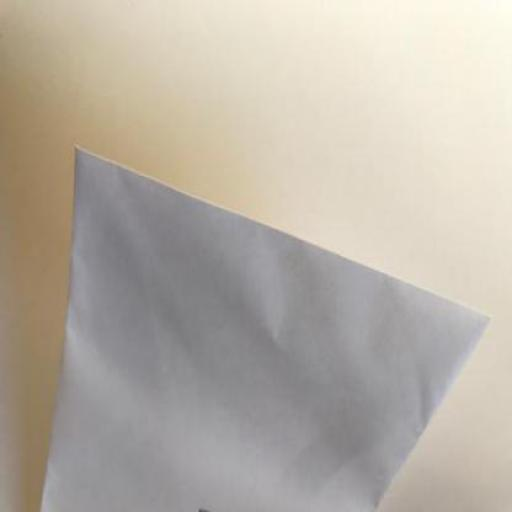paper: (42, 146, 492, 511)
